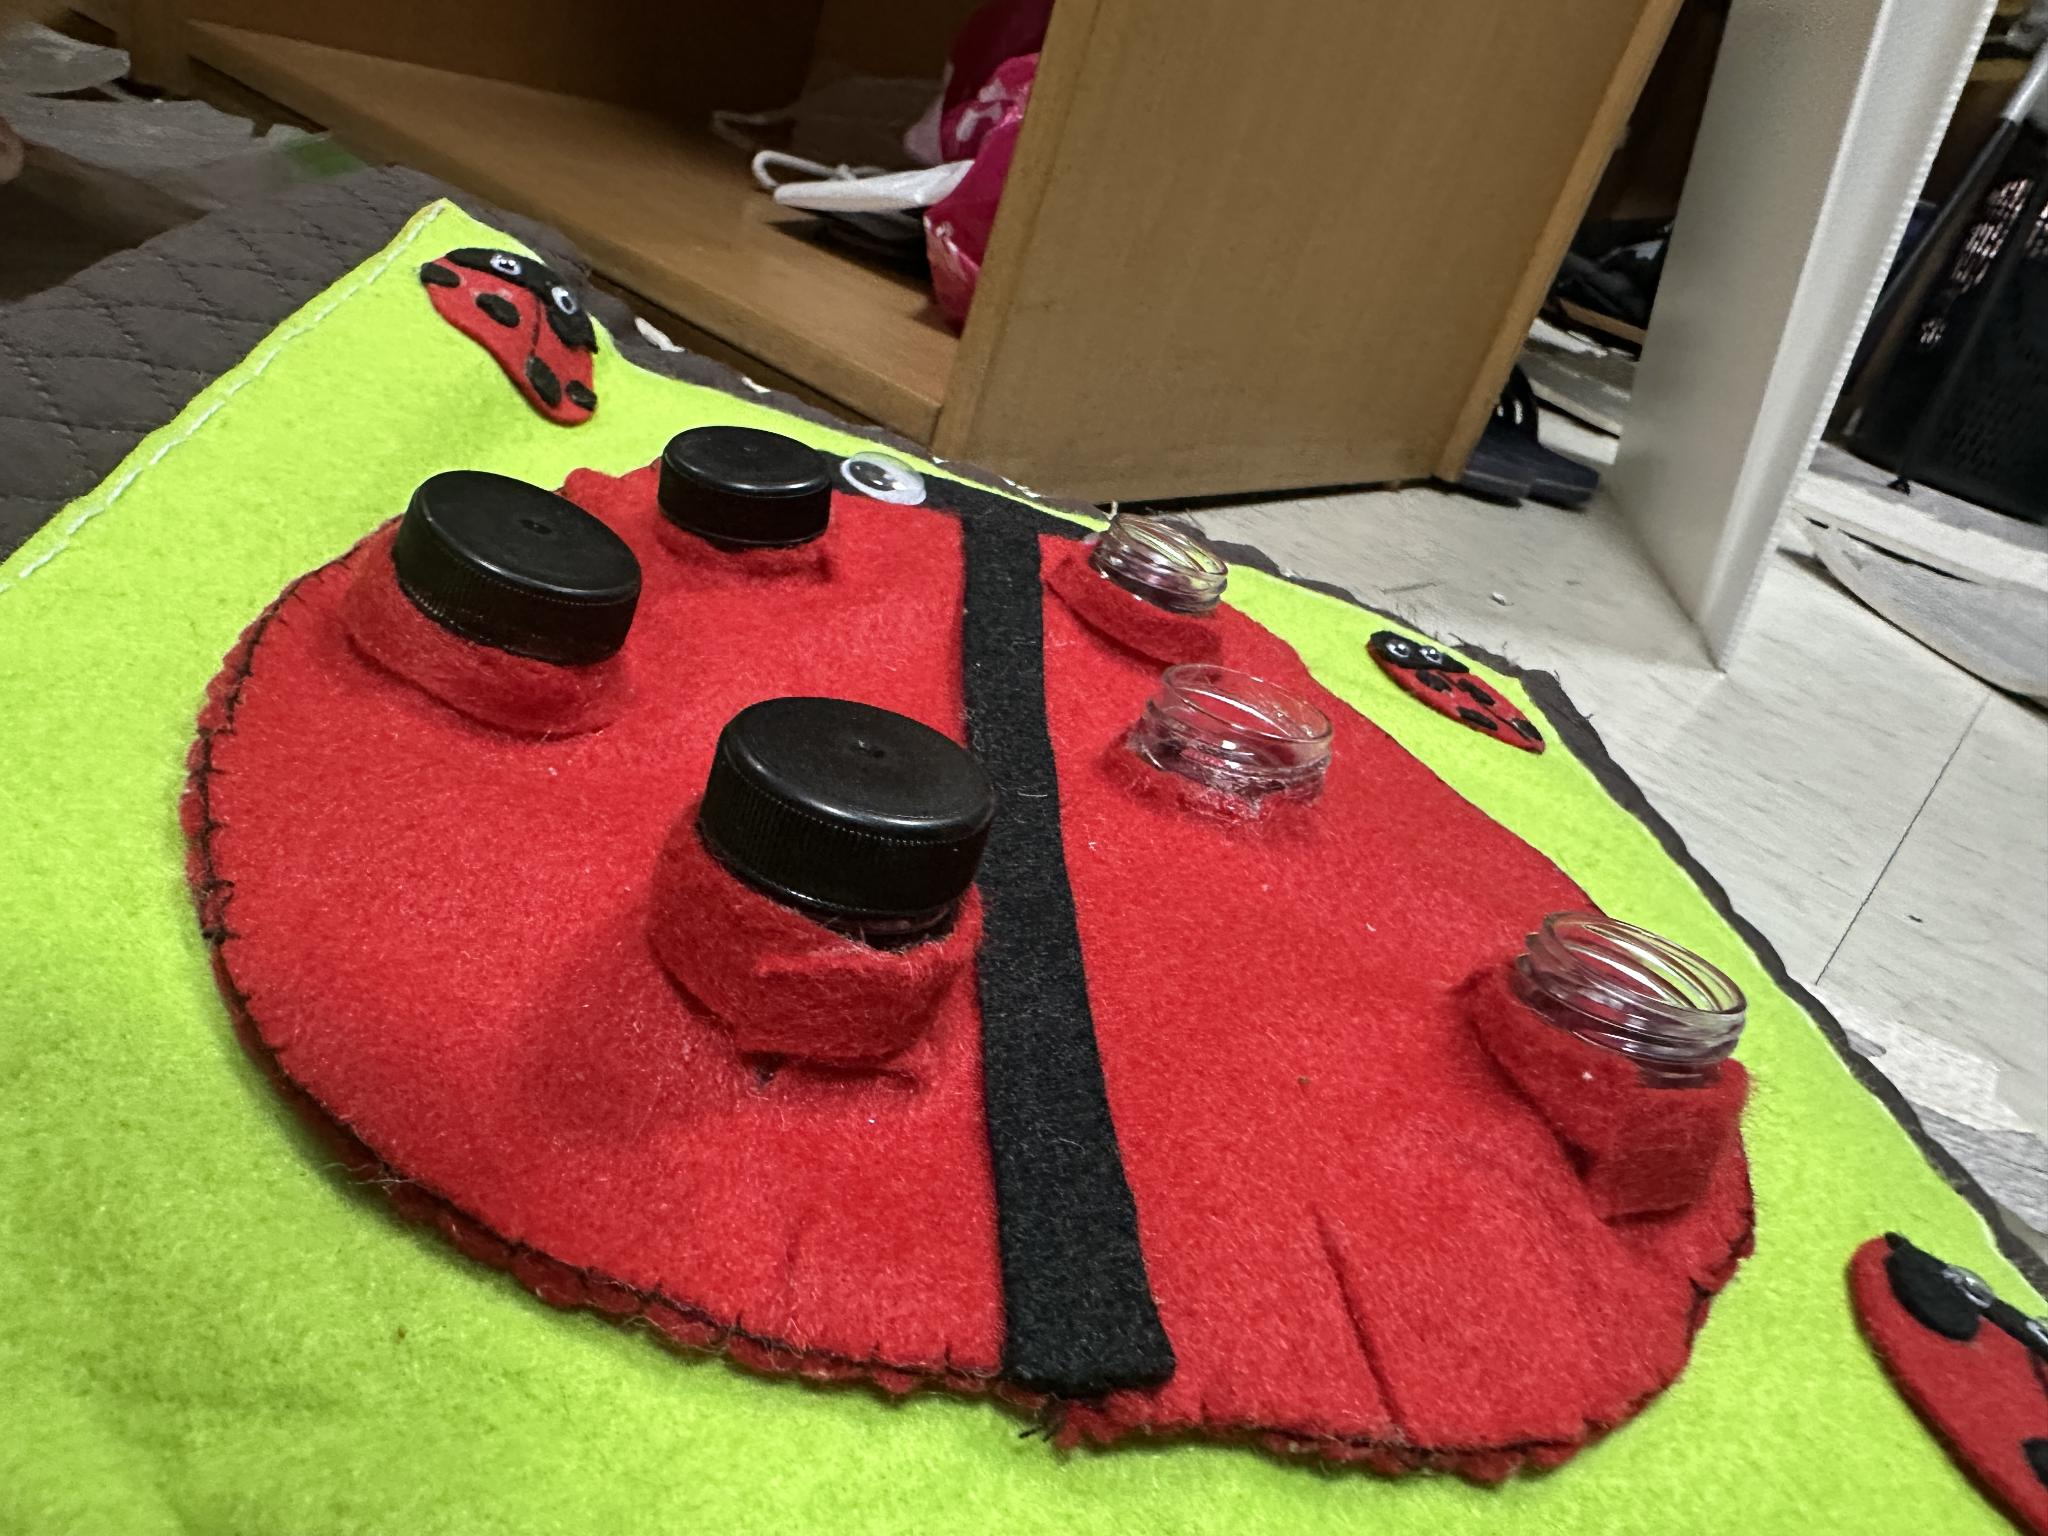cap_ok: (676, 662, 1013, 1047), (361, 434, 658, 729), (635, 402, 879, 578)
